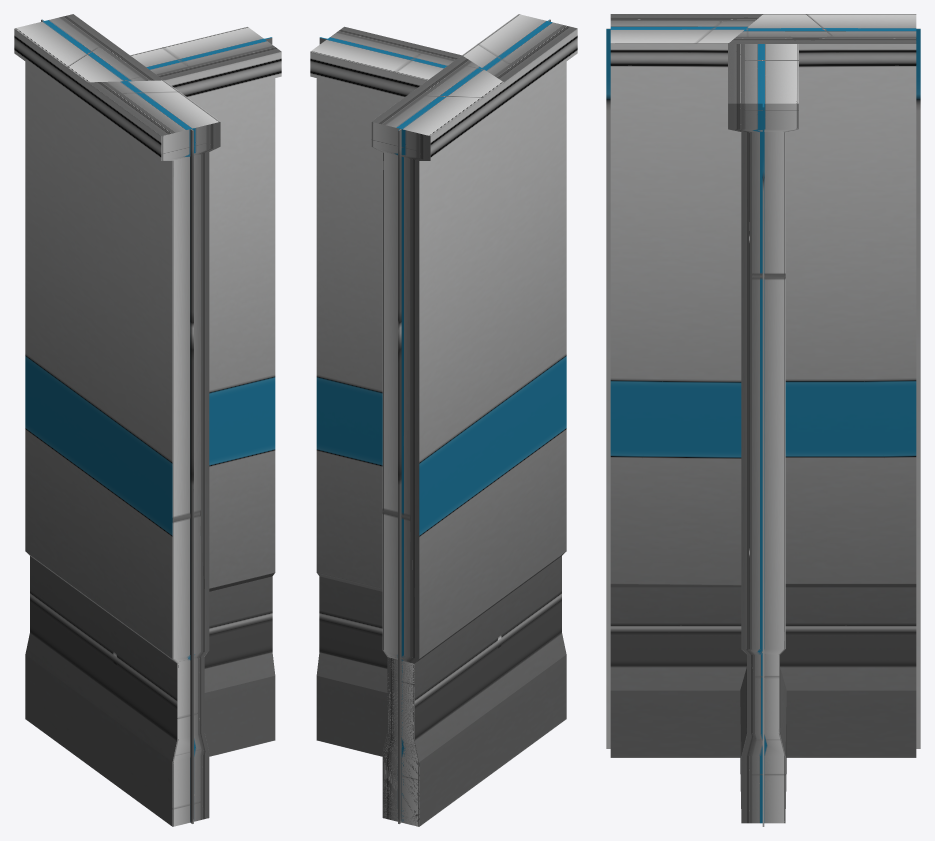
File: TPC_SSU_LM_BB.fbx
The picture shows the model from 3 angles, left to right: view 1: azimuth 30°, elevation 25°; view 2: azimuth 150°, elevation 25°; view 3: azimuth 270°, elevation 25°; orthographic projection. The views are drawn at different scales.
Parts seen in each view (by area): view 1: TPC_SSU_LM_BB; view 2: TPC_SSU_LM_BB; view 3: TPC_SSU_LM_BB.
Boxes of the visible parts, box(x1,y1,x2,y2) form: TPC_SSU_LM_BB: box(14, 14, 281, 826); TPC_SSU_LM_BB: box(310, 14, 577, 826); TPC_SSU_LM_BB: box(606, 14, 920, 826).
Size of the model in its own units: 1.25 by 4.5 by 1.78.
